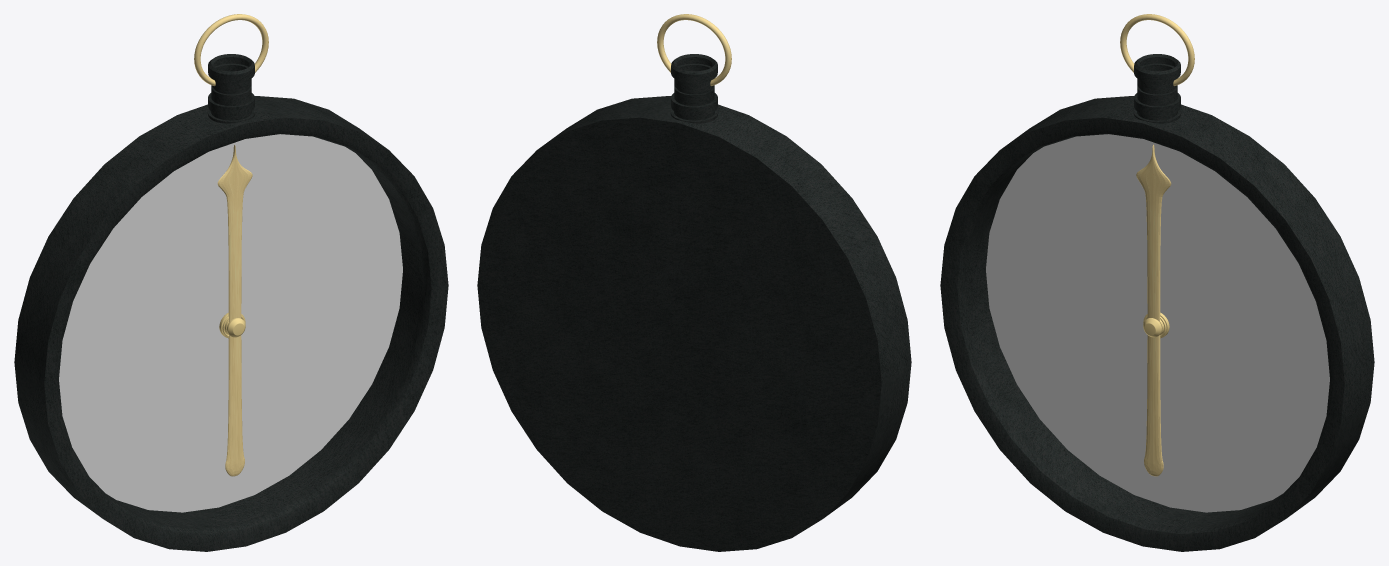
Rendered from compass_test.fbx.
3 views of the same model, side by side, from view 1: azimuth 30°, elevation 25°; view 2: azimuth 150°, elevation 25°; view 3: azimuth 330°, elevation 25° (orthographic).
Parts seen in each view (by area): view 1: PZ_COMPASS; view 2: PZ_COMPASS; view 3: PZ_COMPASS.
Boxes of the visible parts, x1,y1,x2,y2 form: PZ_COMPASS: (14, 14, 448, 551); PZ_COMPASS: (477, 14, 911, 551); PZ_COMPASS: (940, 14, 1374, 551).
Size of the model in its own units: 18.53 by 22.78 by 2.37.
3 materials, 2 textured.
